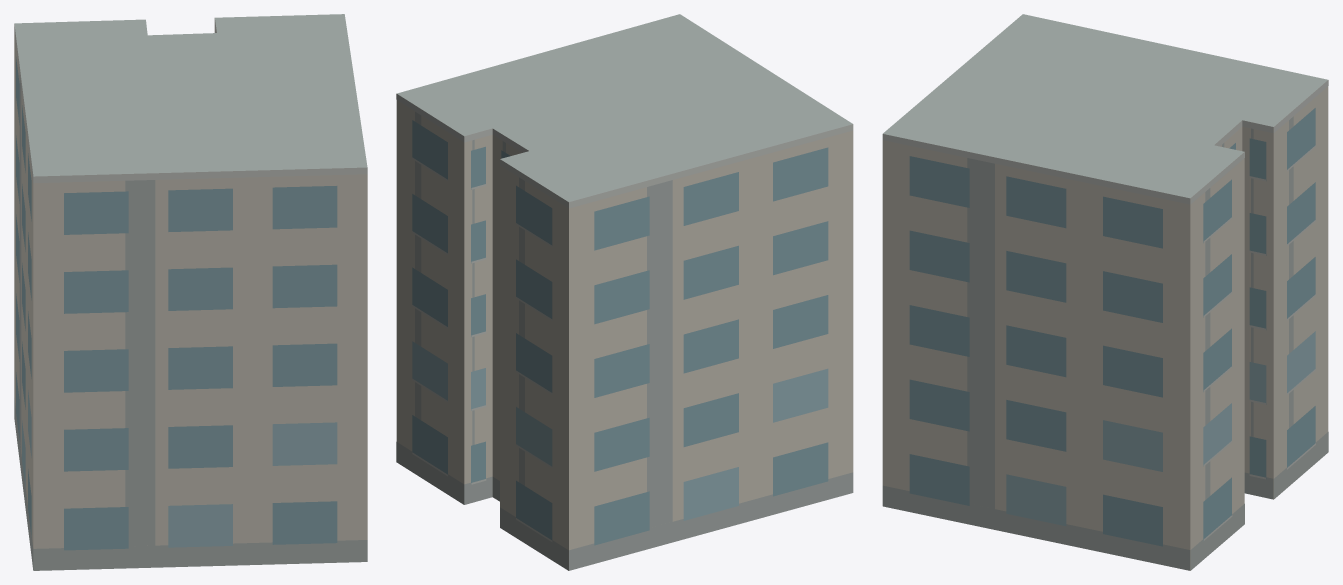
File: survey-upis-32902652.glb
The picture shows the model from 3 angles, left to right: view 1: azimuth 30°, elevation 25°; view 2: azimuth 150°, elevation 25°; view 3: azimuth 270°, elevation 25°; orthographic projection. The views are drawn at different scales.
Visible parts, largest first — view 1: survey-upis-32902652.tmp; view 2: survey-upis-32902652.tmp; view 3: survey-upis-32902652.tmp.
Part boxes in pixels (bbox=[...]): survey-upis-32902652.tmp: bbox=[14, 14, 367, 570]; survey-upis-32902652.tmp: bbox=[396, 14, 853, 570]; survey-upis-32902652.tmp: bbox=[882, 14, 1328, 570].
Bounding box in the file's own units: 15.24 × 14.35 × 15.57.
